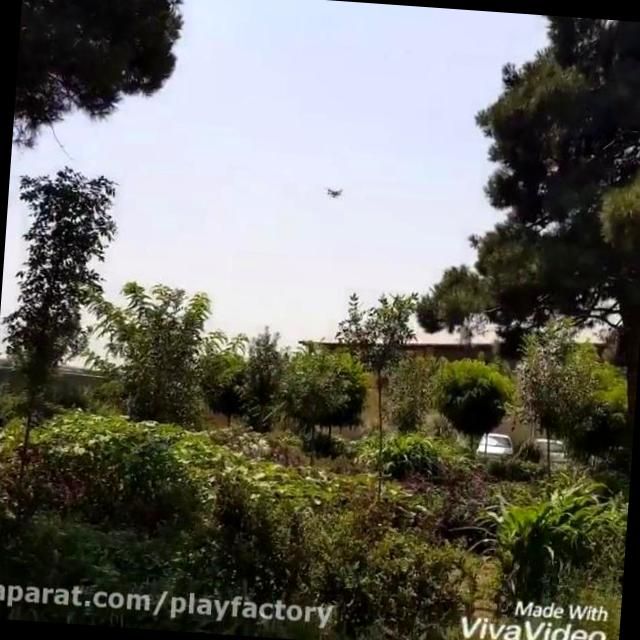drone: (320, 179, 348, 202)
